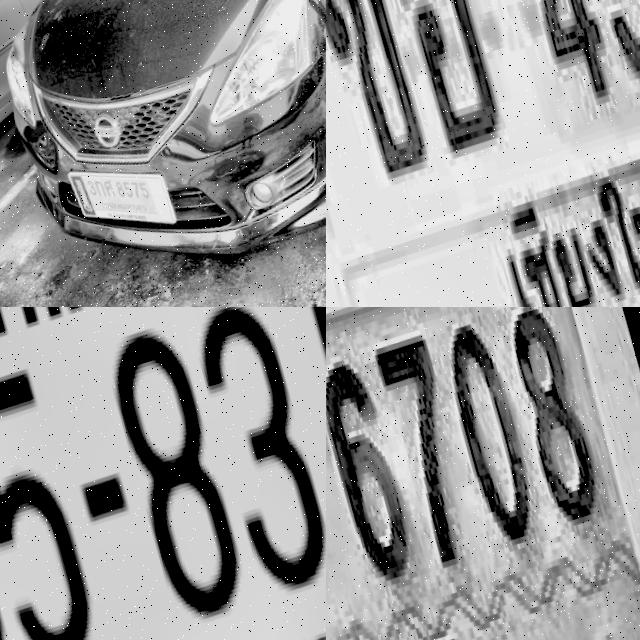license-plate: (0, 307, 326, 640), (326, 307, 640, 640), (326, 0, 640, 307), (63, 141, 177, 255)
